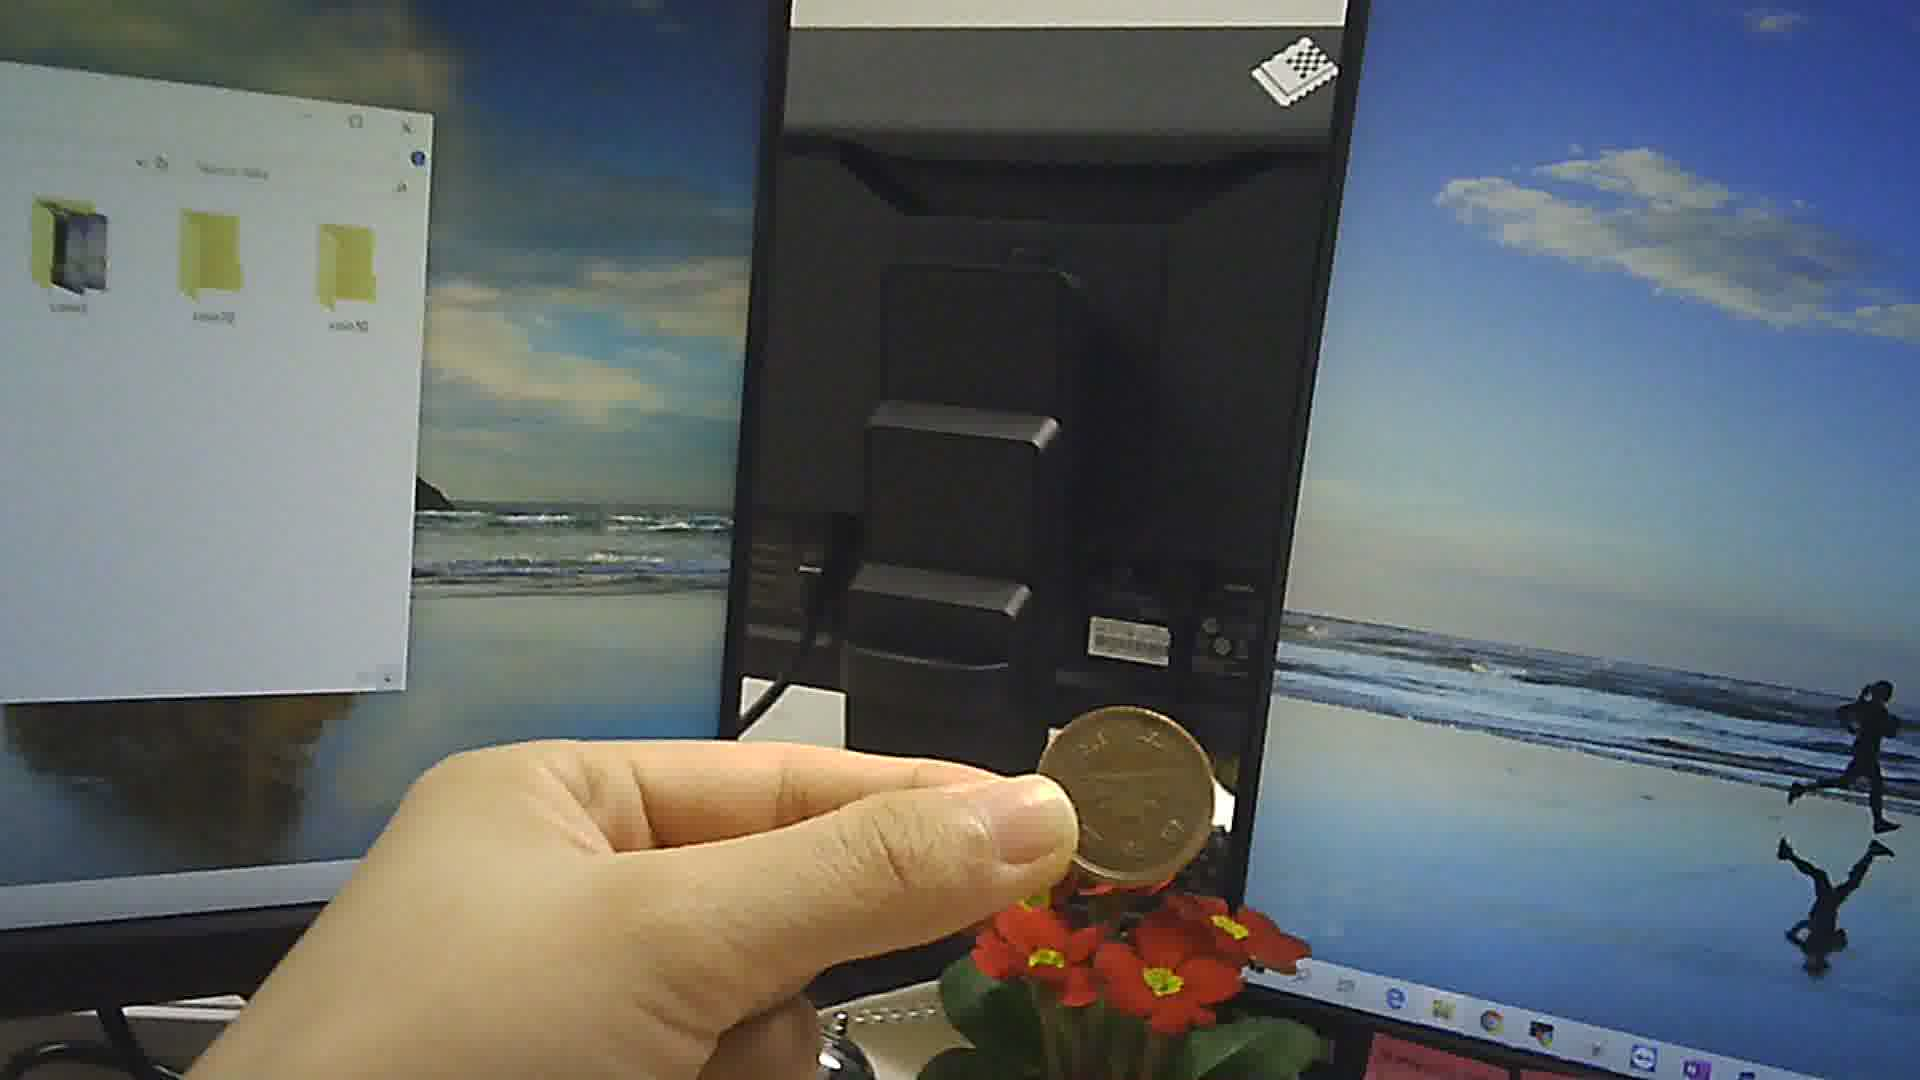10 Yen: (1030, 694, 1218, 884)
